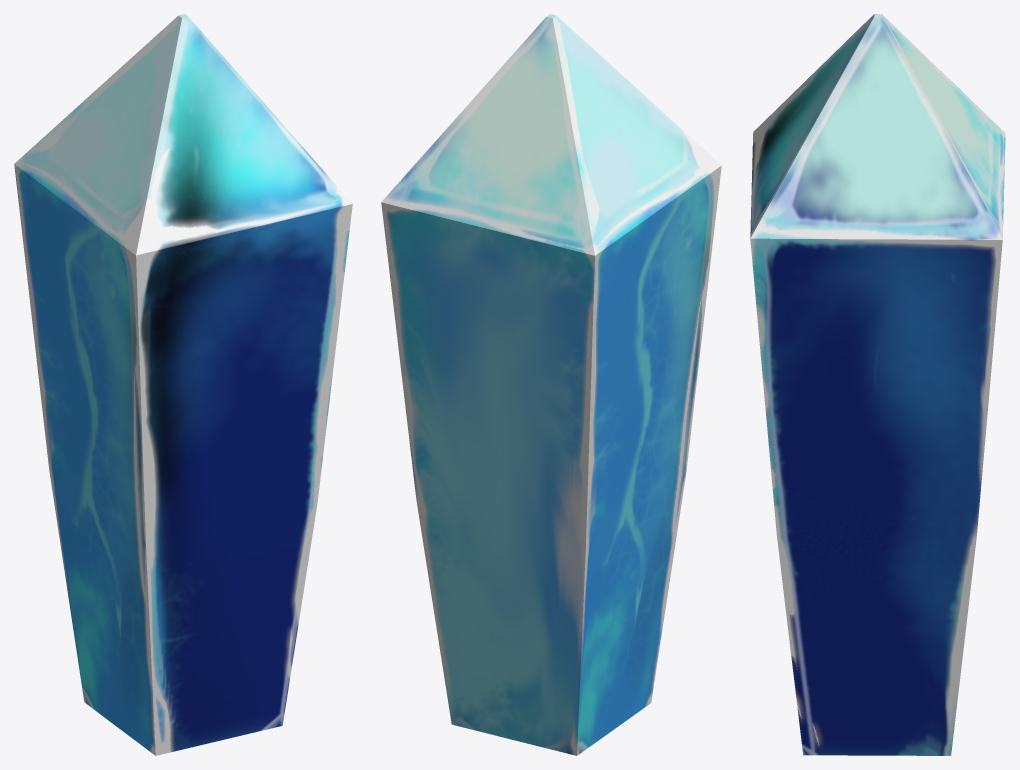
Rendered from Crystal.fbx.
3 renders of one model, left to right at view 1: azimuth 30°, elevation 25°; view 2: azimuth 150°, elevation 25°; view 3: azimuth 270°, elevation 25°, orthographic.
Visible parts, largest first — view 1: crystal_low; view 2: crystal_low; view 3: crystal_low.
Part boxes in pixels (box(x1,y1,x2,y2)): crystal_low: box(14, 14, 352, 755); crystal_low: box(381, 14, 721, 755); crystal_low: box(750, 14, 1005, 755).
Size of the model in its own units: 4.52 by 13.84 by 4.52.
Materials: 1 (1 with a texture image).
